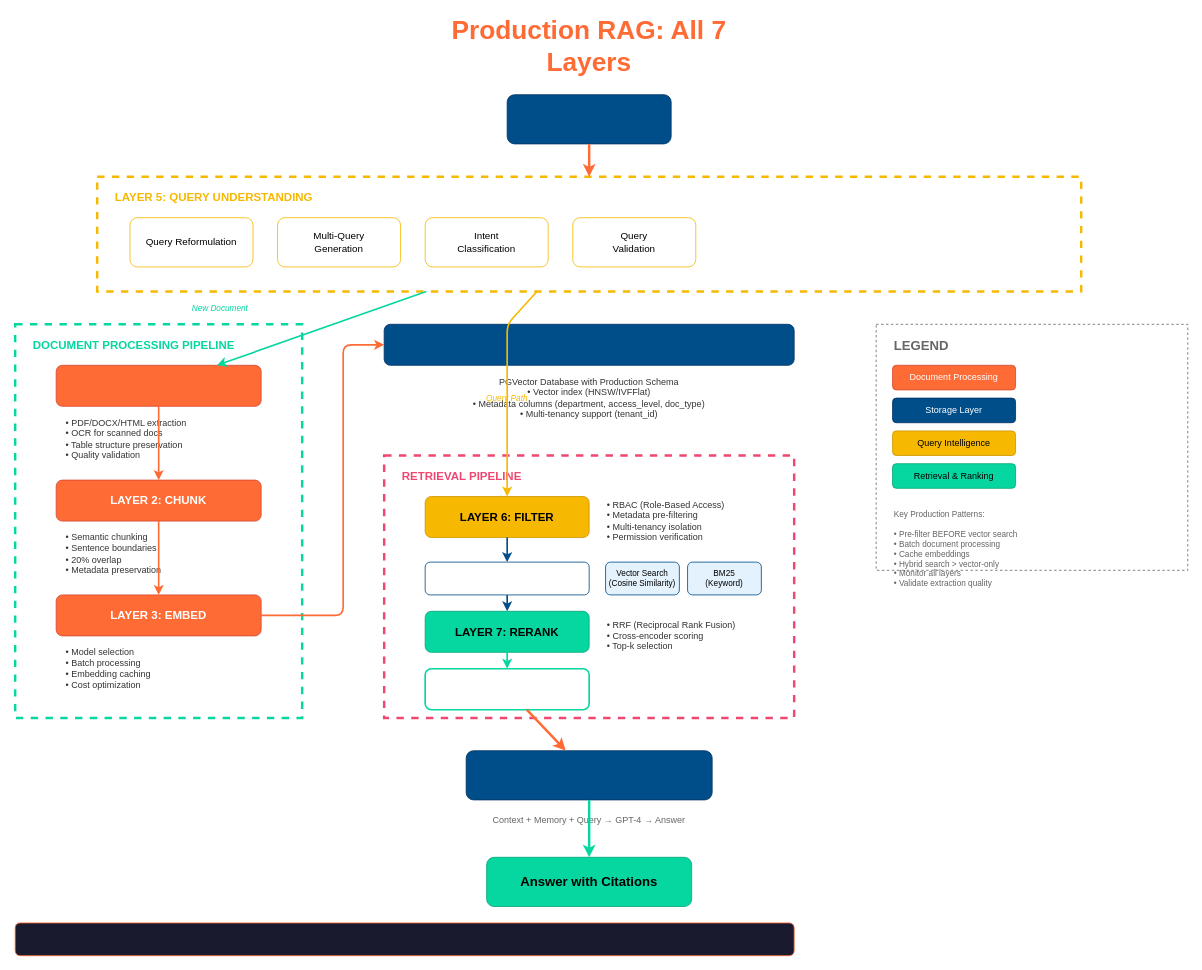
Image size: 1202x970. Some labels were removed from this diagram. The box of each missing label's shape, as (x1, y1, x2, y2) in pixels:
Hybrid Search: (424, 561, 589, 595)
LAYER 1: PROCESS: (55, 364, 261, 406)
LAYER 4: STORE: (383, 323, 794, 365)
LLM GENERATION: (465, 750, 712, 800)
OBSERVABILITY: Logging | Cost Tracking | Quality Metrics | Error Monitoring: (14, 922, 794, 956)
Retrieved Context (Top 5 Chunks): (424, 667, 590, 710)
User Query: (506, 94, 671, 144)
